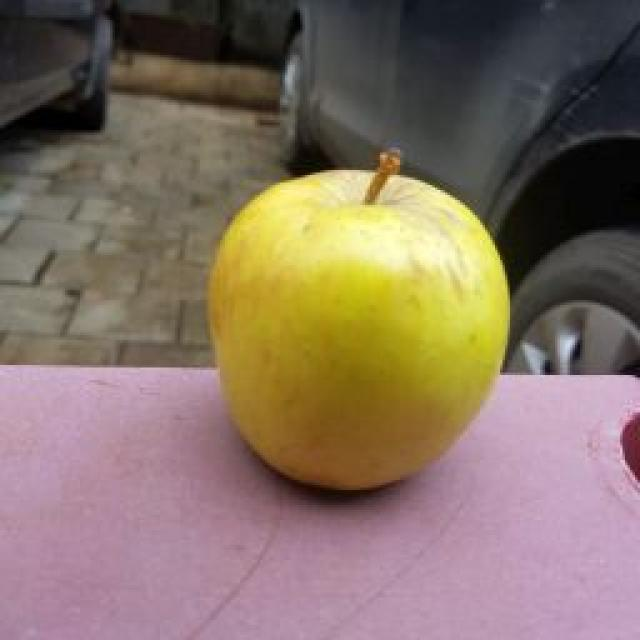Good_Apple: (209, 170, 509, 489)
